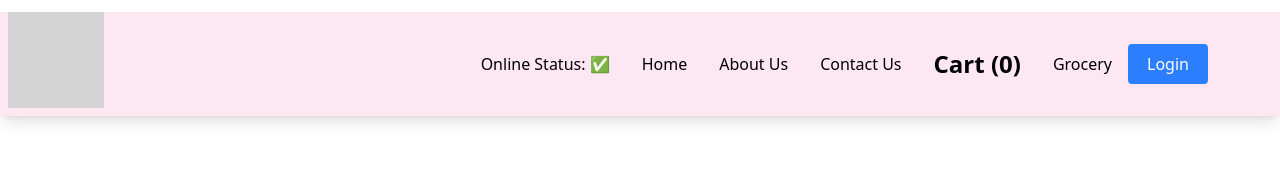
Scenario: Header component page testings › Should load Header component with login button to logout
The image size is (1280, 172).
Click the button "Login" at (1168,64), box [1128, 44, 1208, 84]
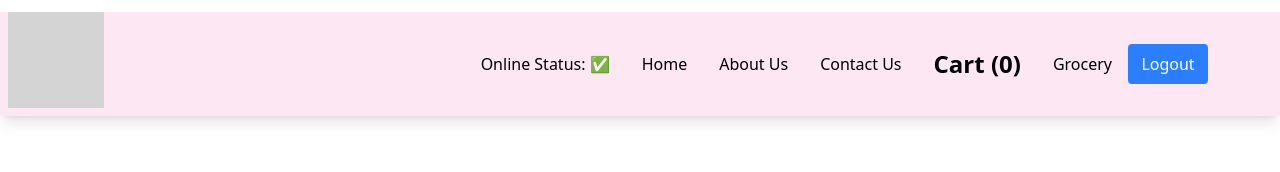
Expected: the button "Logout" is shown, [1128, 44, 1208, 84]
